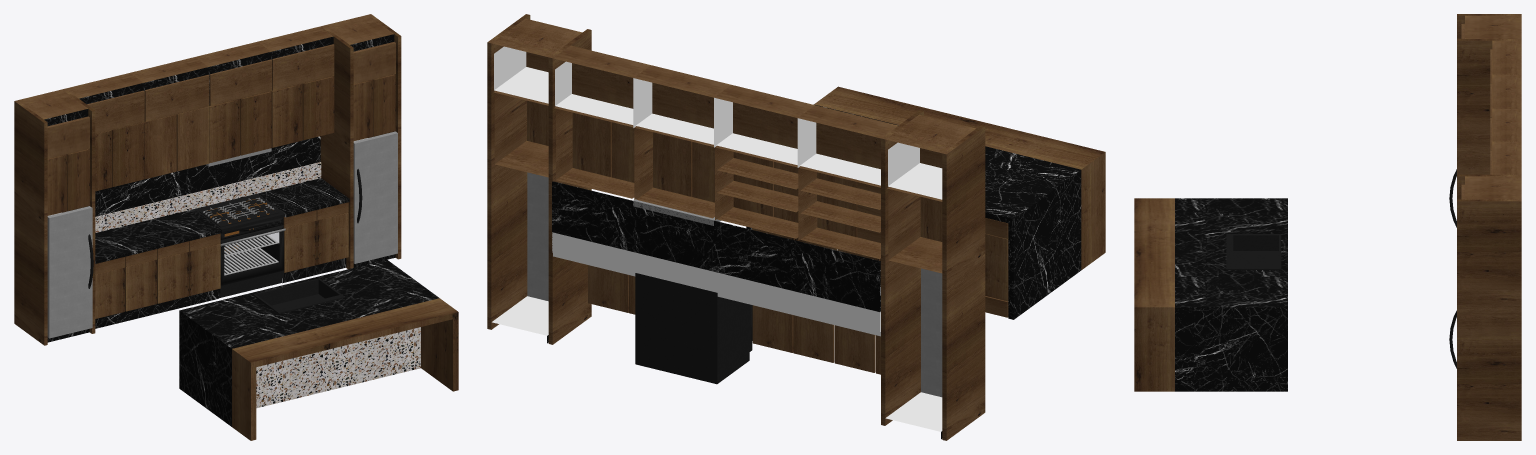
The model's file is k_common.glb.
The picture shows the model from 3 angles, left to right: view 1: azimuth 30°, elevation 25°; view 2: azimuth 150°, elevation 25°; view 3: azimuth 270°, elevation 25°; orthographic projection. The views are drawn at different scales.
Parts seen in each view (by area): view 1: k-Self.0073333, k-Tabel-A; view 2: k-Self.0073333, k-Tabel-A; view 3: k-Tabel-A, k-Self.0073333.
Part boxes in pixels (x1,y1,x2,y2): k-Self.0073333: (14, 14, 401, 345); k-Tabel-A: (179, 260, 458, 440); k-Self.0073333: (487, 14, 985, 440); k-Tabel-A: (746, 86, 1105, 319); k-Tabel-A: (1134, 198, 1287, 391); k-Self.0073333: (1449, 14, 1521, 440).
Size of the model in its own units: 3.63 by 2.16 by 3.17.
14 materials, 11 textured.
